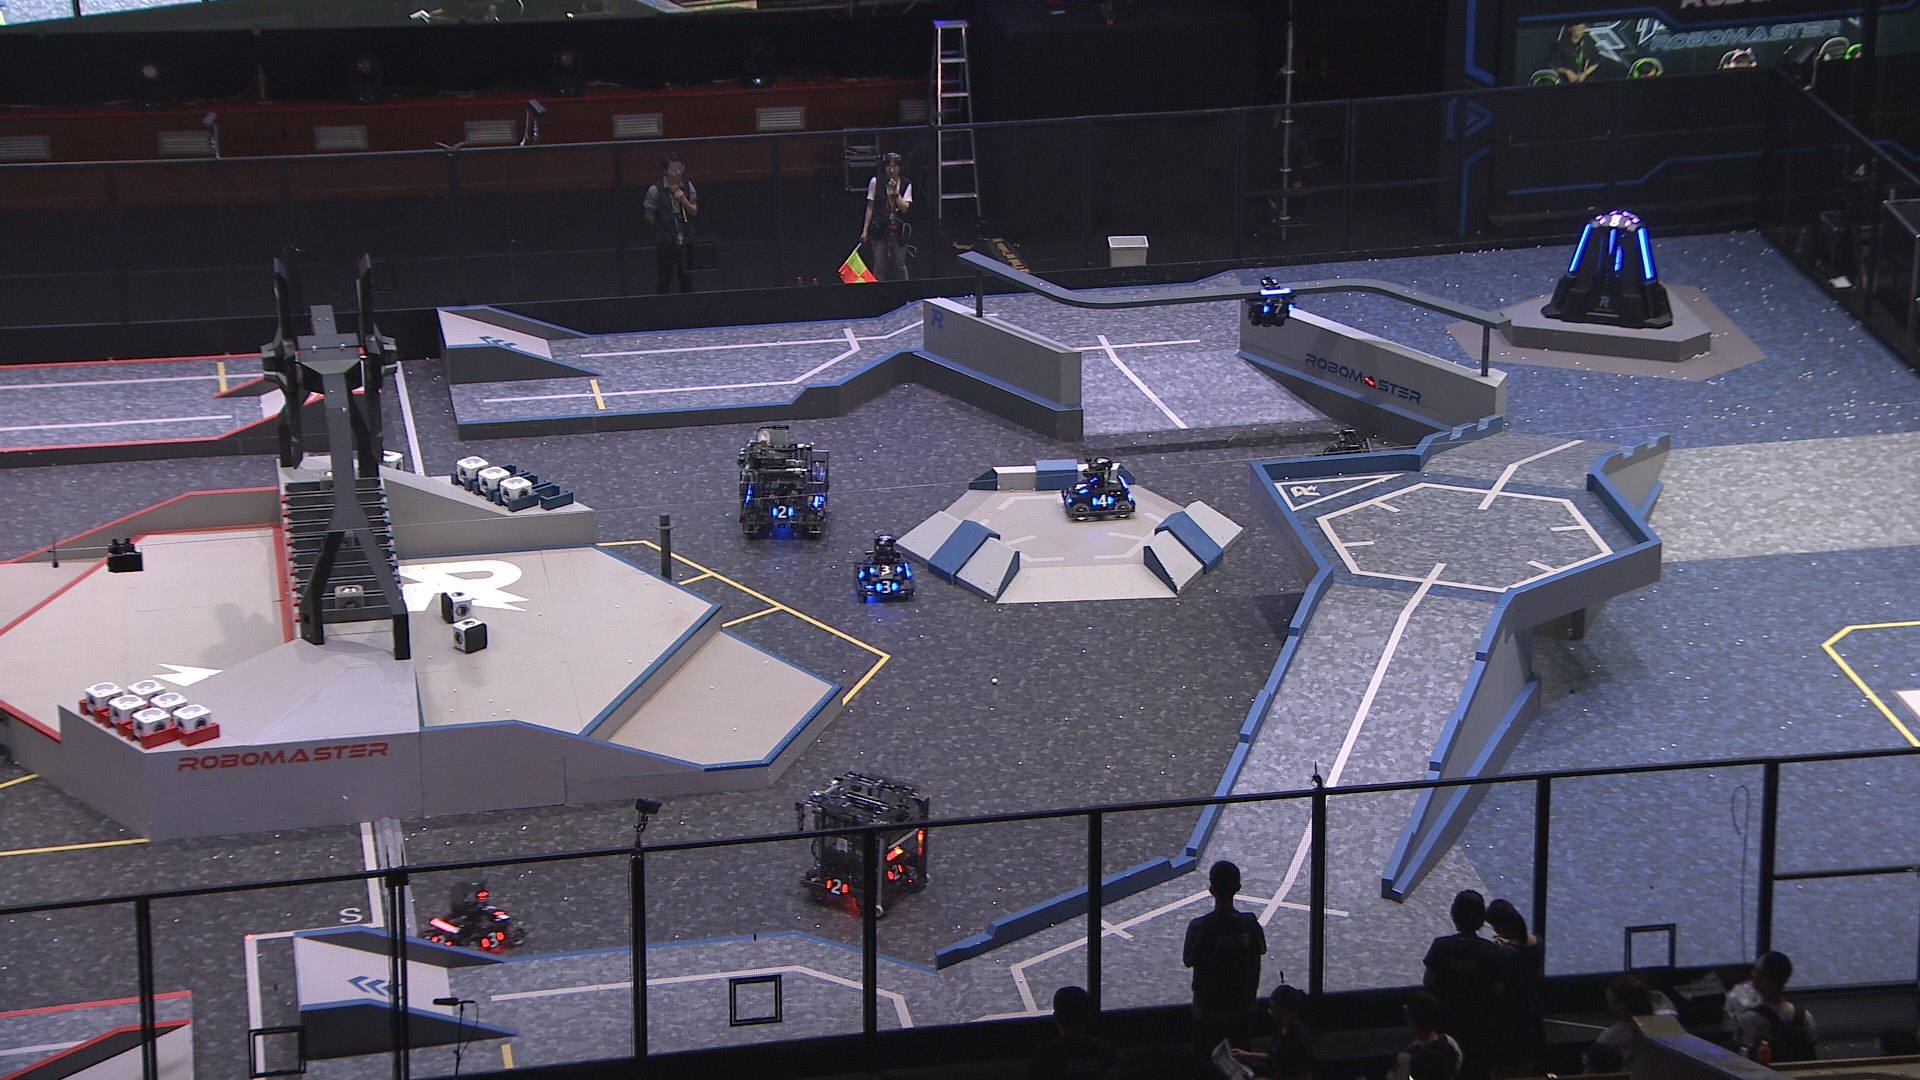armor: (1567, 222, 1596, 276), (1633, 225, 1656, 282), (767, 501, 796, 522), (1258, 301, 1296, 316), (870, 578, 899, 597), (1087, 491, 1116, 510), (866, 562, 903, 576), (480, 930, 506, 949), (825, 877, 851, 897), (885, 861, 907, 882), (1069, 480, 1093, 500), (480, 902, 505, 918), (429, 935, 452, 951), (1605, 229, 1619, 255), (855, 559, 866, 584), (1058, 489, 1073, 506)
base: (1539, 204, 1675, 334)
car: (793, 766, 939, 924), (735, 422, 835, 541), (1298, 429, 1408, 535), (423, 872, 531, 968), (1054, 456, 1139, 526), (851, 533, 920, 604)
ignore: (1596, 214, 1633, 229)
watcher: (1245, 272, 1296, 328)
